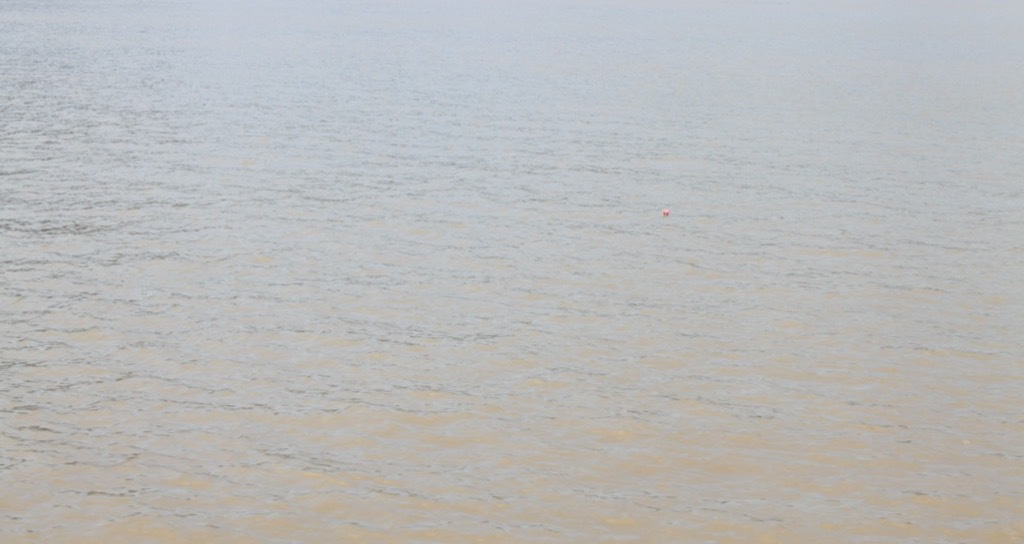plastic: (644, 192, 686, 233)
